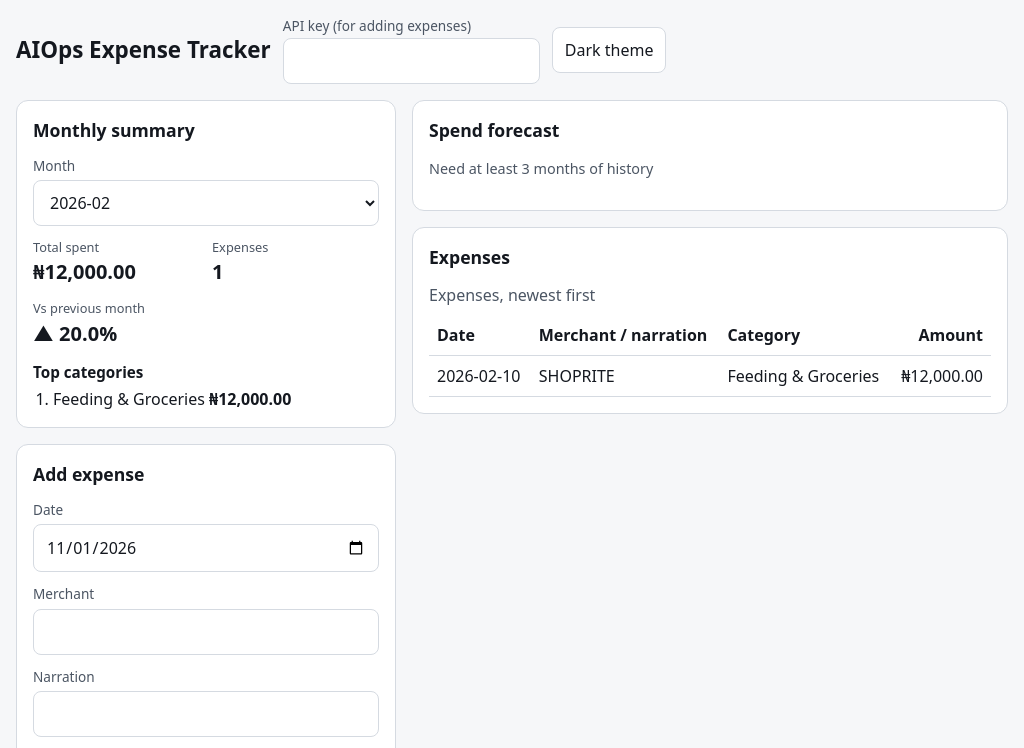
App › API error on submit is shown
The image size is (1024, 748).
In the field labelled "Narration": [206, 714] box [33,691,379,737], type "Lunch"
(page scrolled)
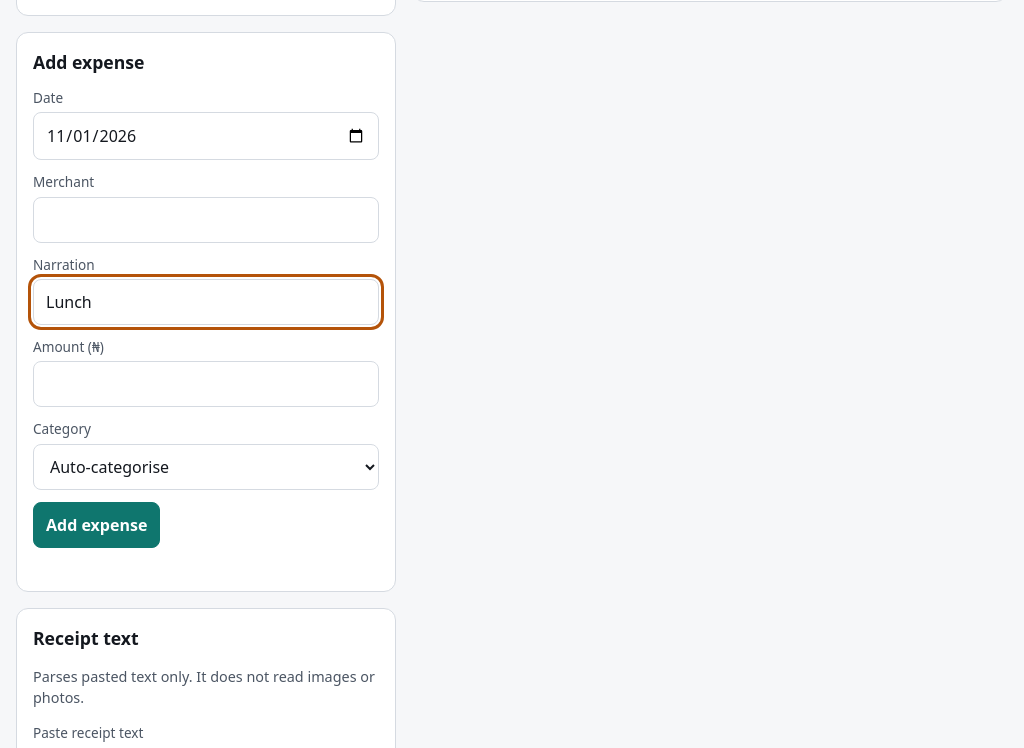
In the field labelled "Amount (₦)": [206, 384] box [33,361,379,407], type "50"
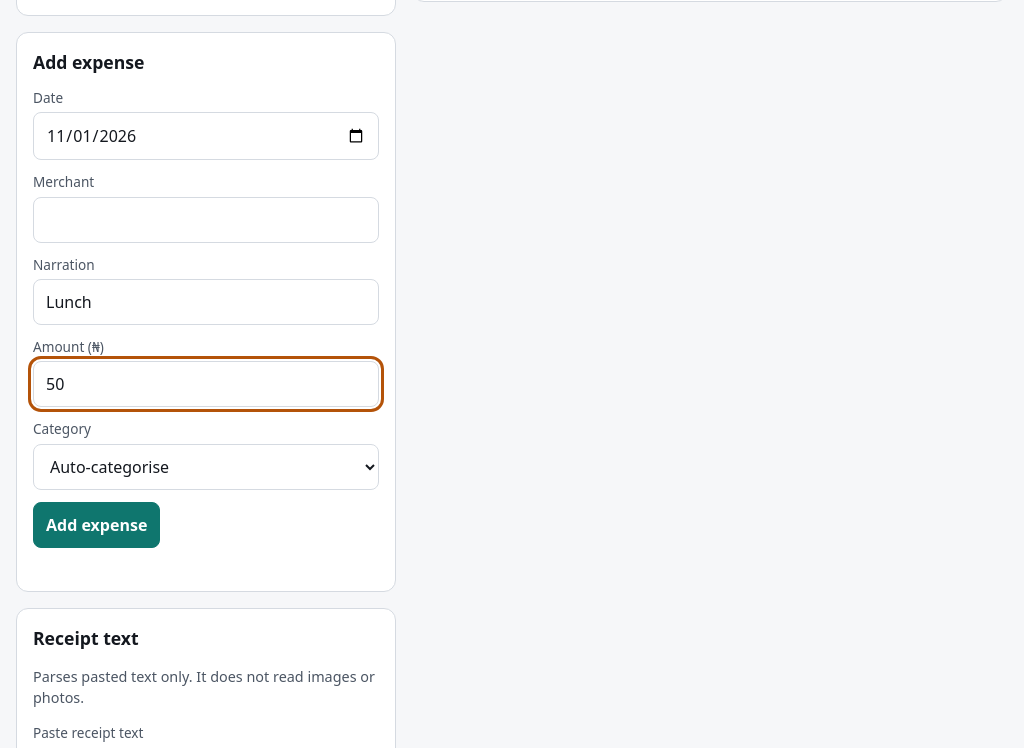
Click the button "Add expense": [97, 525] box [33,502,160,548]
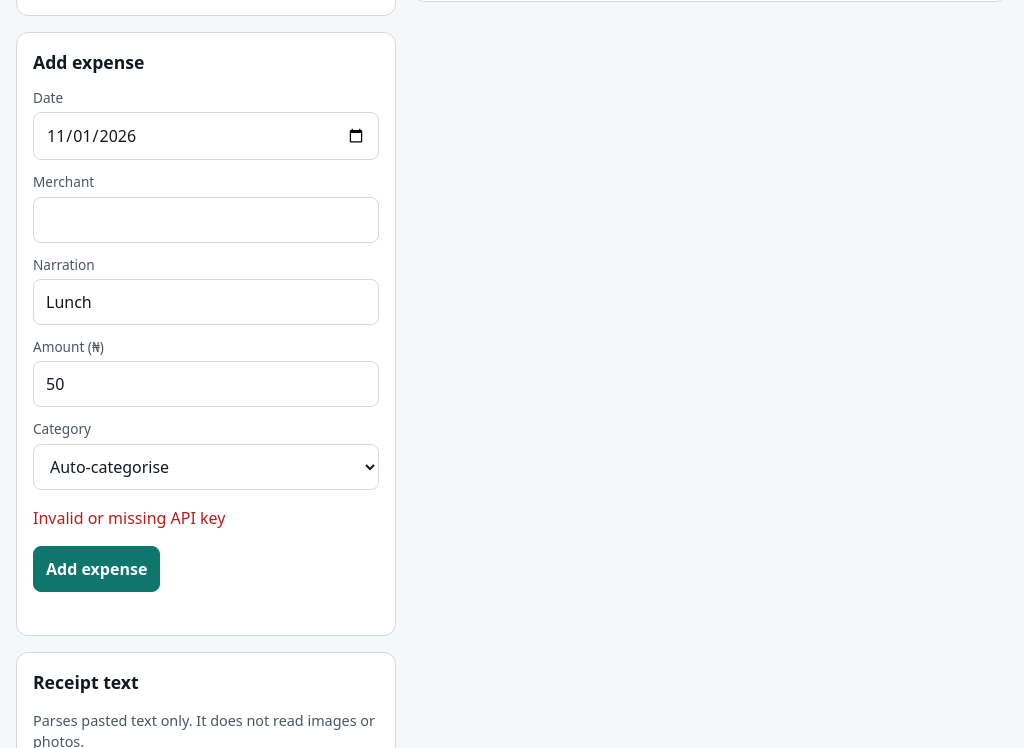
Result: the text "Invalid or missing API key" is shown at [33,507,226,529]
